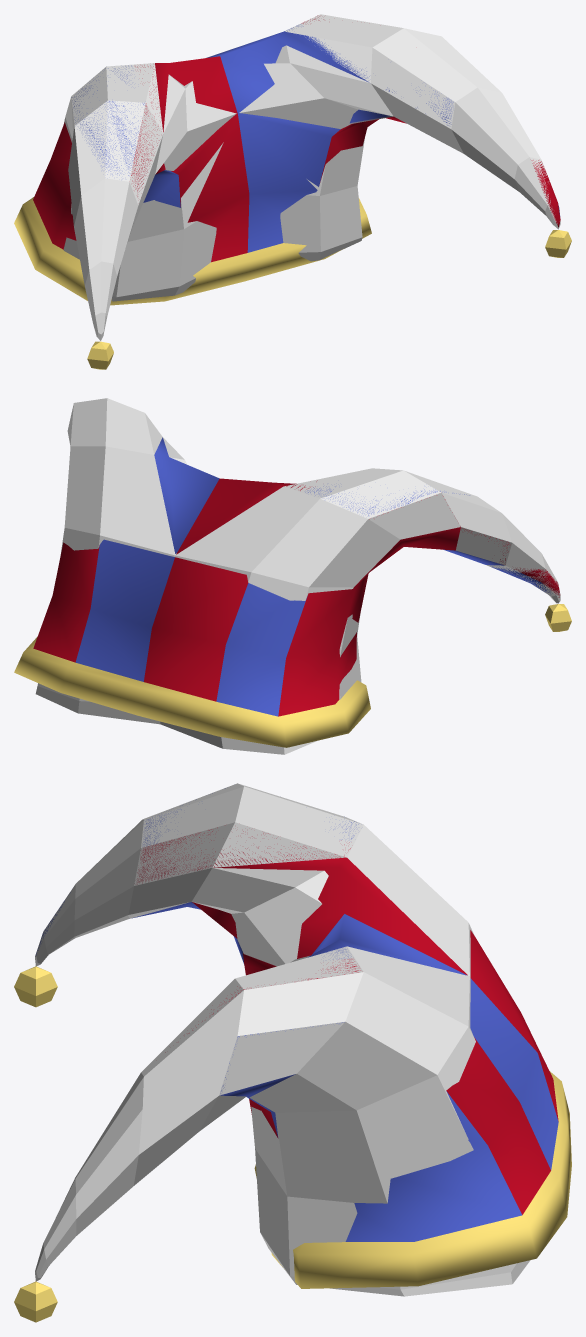
The model's file is pomnihat.fbx.
The picture shows the model from 3 angles, top to bottom: view 1: azimuth 30°, elevation 25°; view 2: azimuth 150°, elevation 25°; view 3: azimuth 270°, elevation 25°; orthographic projection. The views are drawn at different scales.
Parts seen in each view (by area): view 1: Cube, Cube.001; view 2: Cube.001, Cube; view 3: Cube, Cube.001.
Boxes of the visible parts, <box> form: Cube: <box>63,14,560,340</box>; Cube.001: <box>14,15,571,369</box>; Cube.001: <box>14,437,571,747</box>; Cube: <box>35,398,560,754</box>; Cube: <box>35,783,530,1296</box>; Cube.001: <box>14,788,571,1322</box>.
Bounding box in the file's own units: 576 × 256 × 407.
